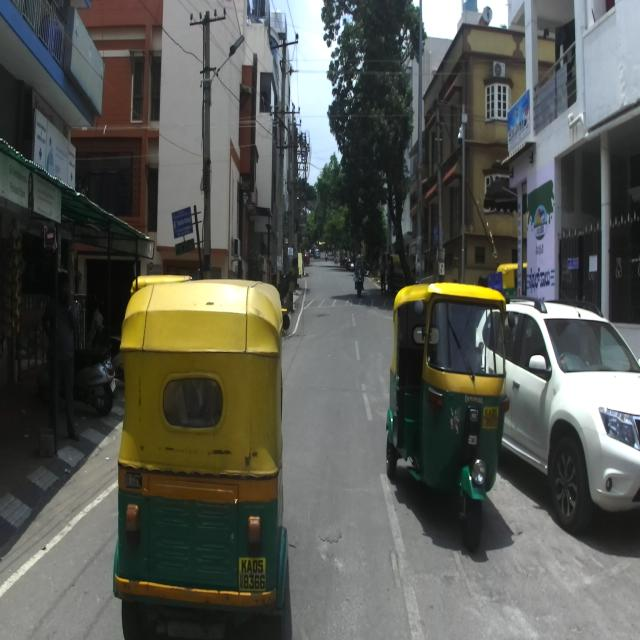auto ahead at: (117, 277, 292, 640), (387, 281, 507, 539)
car ahead at: (508, 293, 640, 530)
